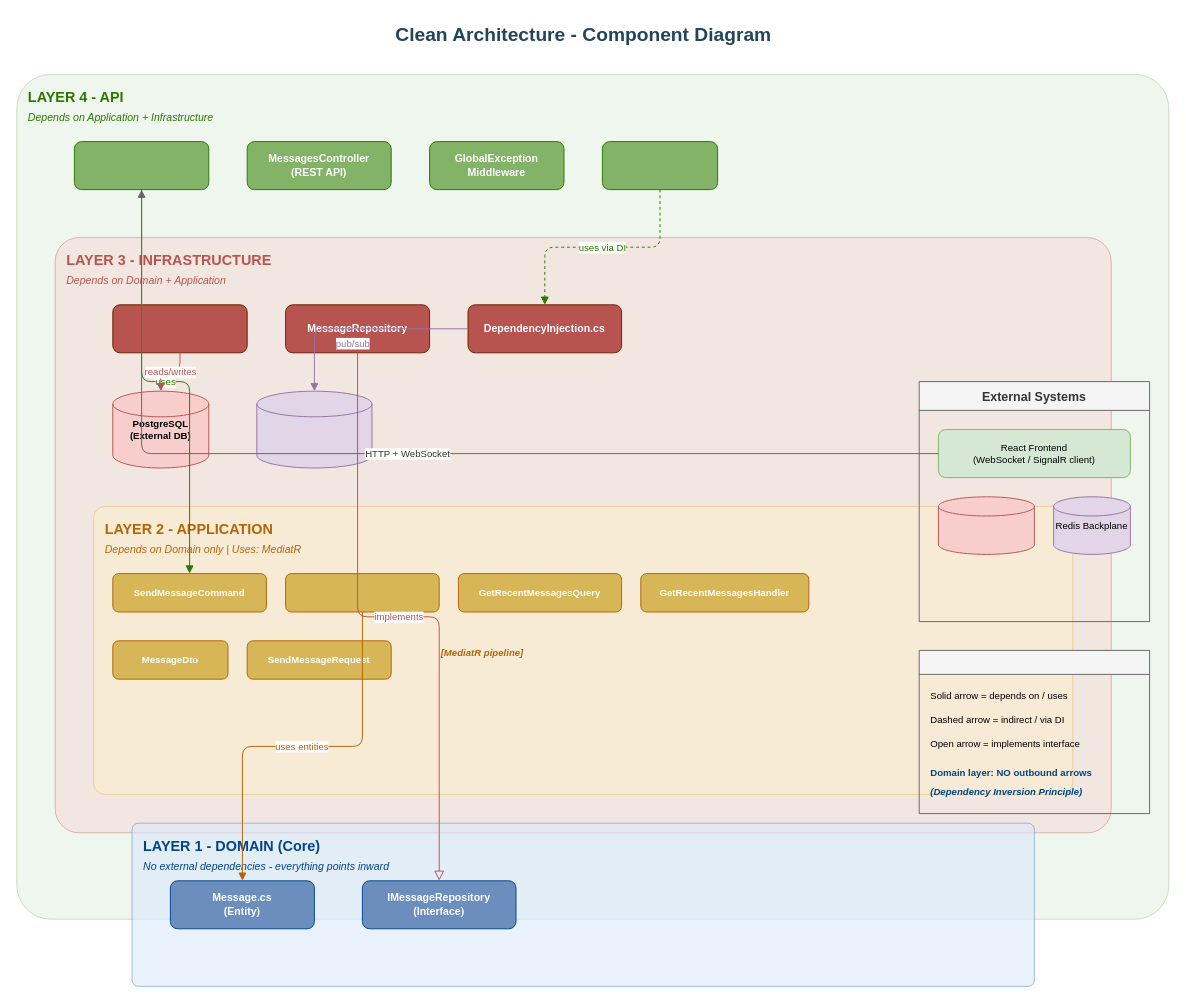
This 1186x1003 diagram has some shape labels left out. Each missing label, with the box of its shape:
ChatDbContext (EF Core): (112, 304, 247, 353)
ChatHub (SignalR): (73, 141, 209, 190)
Legend: (918, 649, 1150, 814)
PostgreSQL Database: (937, 496, 1034, 554)
Program.cs: (601, 141, 718, 190)
Redis Backplane (External Cache): (256, 390, 372, 468)
SendMessageHandler: (285, 573, 439, 612)
